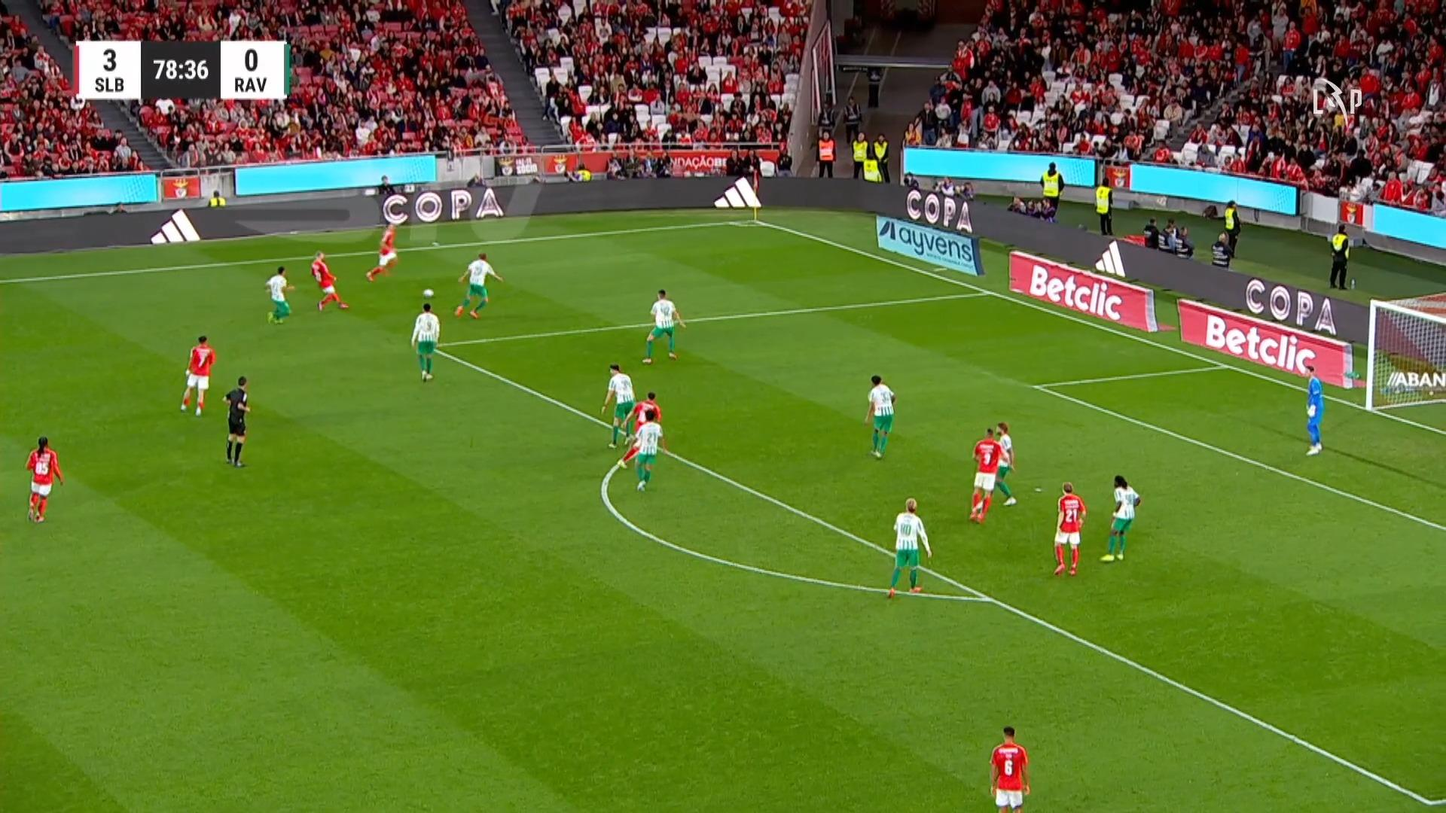ball: (423, 288, 432, 297)
goalkeeper: (1301, 364, 1324, 455)
player: (886, 497, 932, 598), (989, 725, 1030, 811), (1100, 474, 1140, 562), (24, 435, 64, 522), (968, 427, 1004, 523), (641, 288, 685, 364), (618, 391, 662, 467), (454, 251, 503, 319), (599, 362, 636, 449), (1052, 481, 1086, 575), (631, 406, 667, 491), (179, 334, 215, 416), (864, 374, 895, 458), (310, 250, 349, 312), (410, 302, 440, 382), (993, 422, 1017, 506), (365, 222, 398, 282), (264, 265, 294, 324)
referee: (221, 375, 250, 467)
